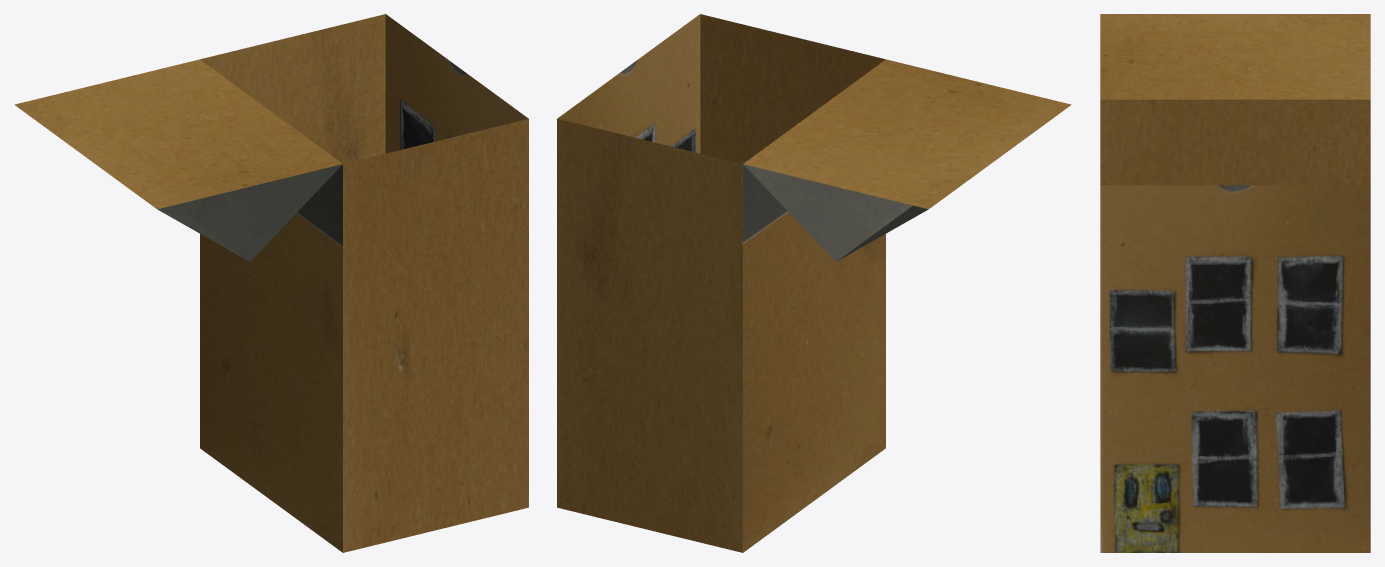
3 views of the same model, side by side, from view 1: azimuth 30°, elevation 25°; view 2: azimuth 150°, elevation 25°; view 3: azimuth 270°, elevation 25° (orthographic). The views are drawn at different scales.
Visible parts, largest first — view 1: Cube, Cube.002, Cube.003; view 2: Cube, Cube.002, Cube.003; view 3: Cube, Cube.003, Cube.002.
Part boxes in pixels (box(x1,y1,x2,y2)): Cube: box(200, 118, 528, 552); Cube.002: box(14, 59, 342, 261); Cube.003: box(200, 14, 528, 163); Cube: box(557, 118, 885, 552); Cube.002: box(743, 59, 1071, 261); Cube.003: box(557, 14, 885, 163); Cube: box(1100, 185, 1370, 552); Cube.003: box(1100, 99, 1370, 185); Cube.002: box(1100, 14, 1370, 99).
Bounding box in the file's own units: 15 × 15 × 10.
1 material, 1 textured.
